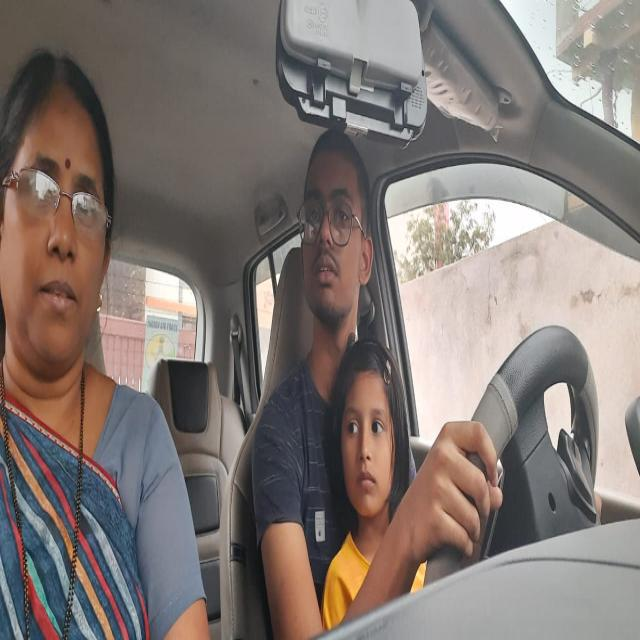LeftRight: (302, 129, 370, 332)
child: (328, 330, 411, 522)
person: (1, 48, 119, 376)
